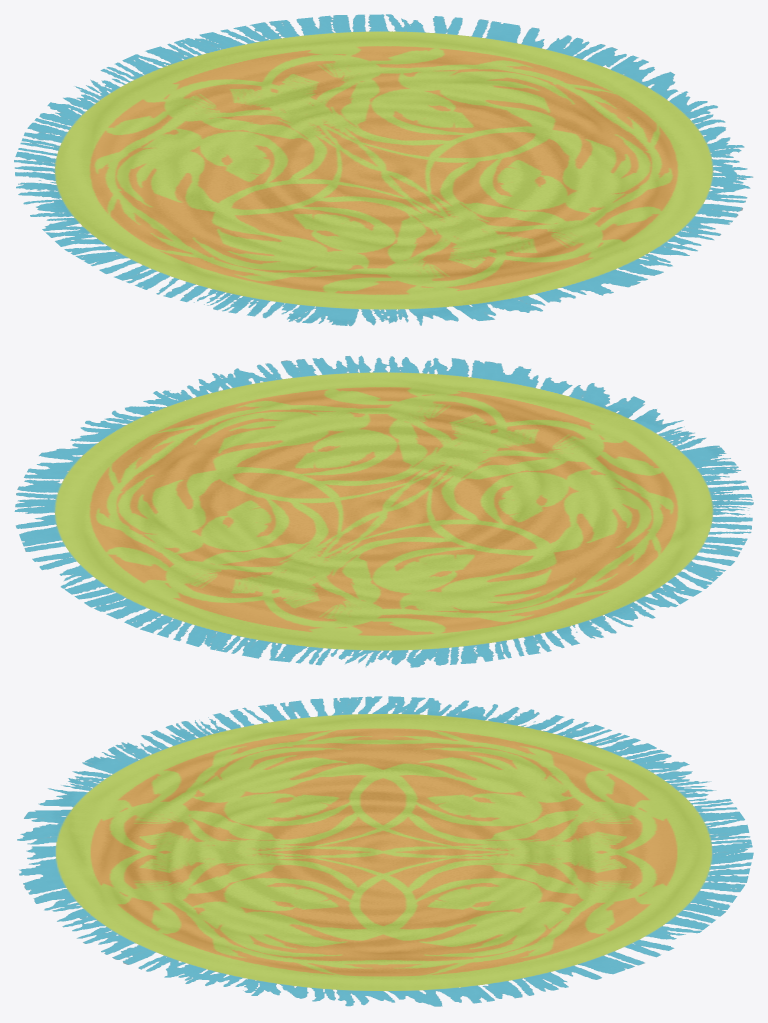
File: JoyRug.fbx
The picture shows the model from 3 angles, top to bottom: view 1: azimuth 30°, elevation 25°; view 2: azimuth 150°, elevation 25°; view 3: azimuth 270°, elevation 25°; orthographic projection.
Visible parts, largest first — view 1: PeaceFloor.001; view 2: PeaceFloor.001; view 3: PeaceFloor.001.
Boxes of the visible parts, x1=… form: PeaceFloor.001: x1=14, y1=14, x2=753, y2=326; PeaceFloor.001: x1=14, y1=355, x2=753, y2=667; PeaceFloor.001: x1=17, y1=696, x2=753, y2=1006.
Size of the model in its own units: 2 by 2.14e-13 by 2.
